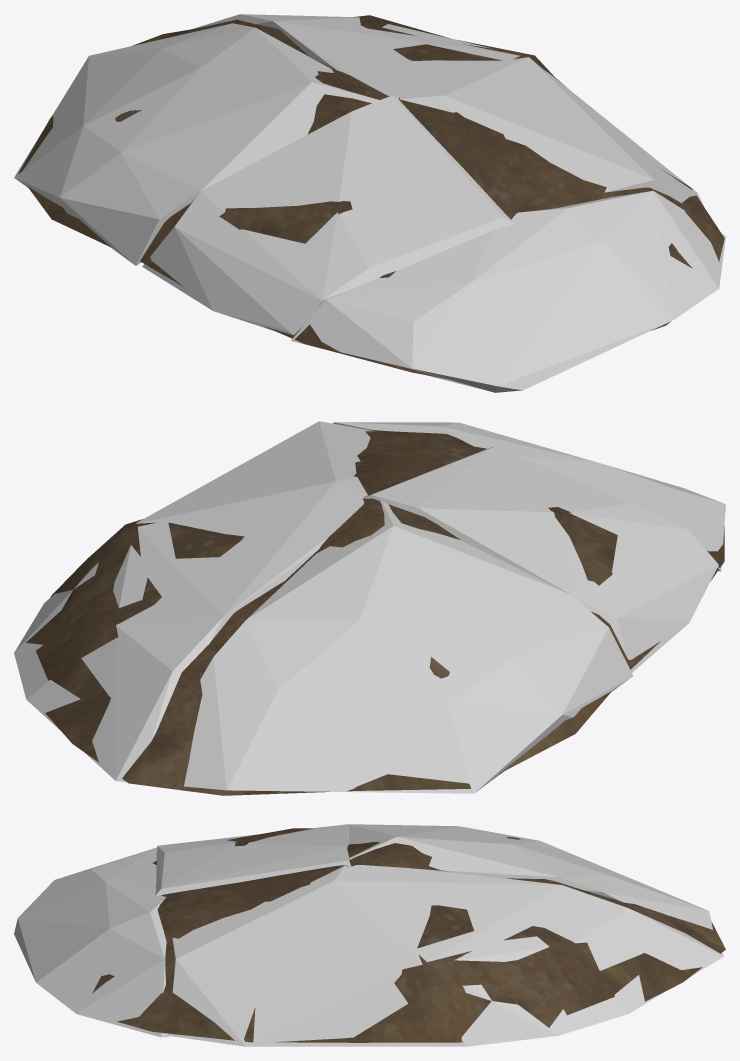
File: SM_Dirt_Mound_C.fbx
3 views of the same model, one above another, from view 1: azimuth 30°, elevation 25°; view 2: azimuth 150°, elevation 25°; view 3: azimuth 270°, elevation 25° (orthographic). The views are drawn at different scales.
Visible parts, largest first — view 1: SM_Dirt_Mound_C_ConvexHulls, SM_Dirt_Mound_C; view 2: SM_Dirt_Mound_C_ConvexHulls, SM_Dirt_Mound_C; view 3: SM_Dirt_Mound_C_ConvexHulls, SM_Dirt_Mound_C.
Boxes of the visible parts, box(x1,y1,x2,y2) form: SM_Dirt_Mound_C_ConvexHulls: box(14, 14, 725, 392); SM_Dirt_Mound_C: box(18, 15, 724, 390); SM_Dirt_Mound_C_ConvexHulls: box(14, 421, 725, 793); SM_Dirt_Mound_C: box(26, 429, 724, 795); SM_Dirt_Mound_C_ConvexHulls: box(14, 824, 723, 1046); SM_Dirt_Mound_C: box(92, 828, 725, 1042).
Bounding box in the file's own units: 76.06 × 113 × 18.62.
2 materials, 1 textured.
